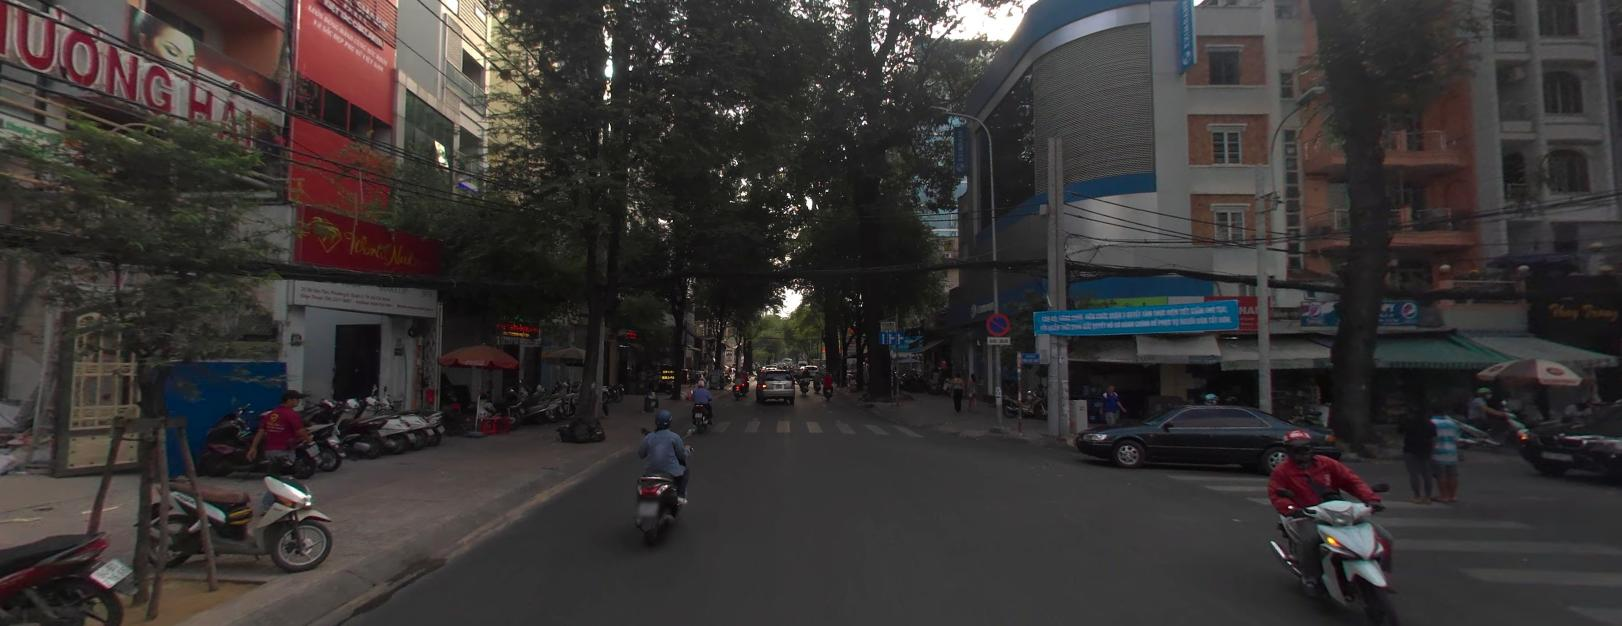Cam dung va do: (986, 311, 1010, 334), (985, 311, 1009, 333), (987, 312, 1009, 334)
